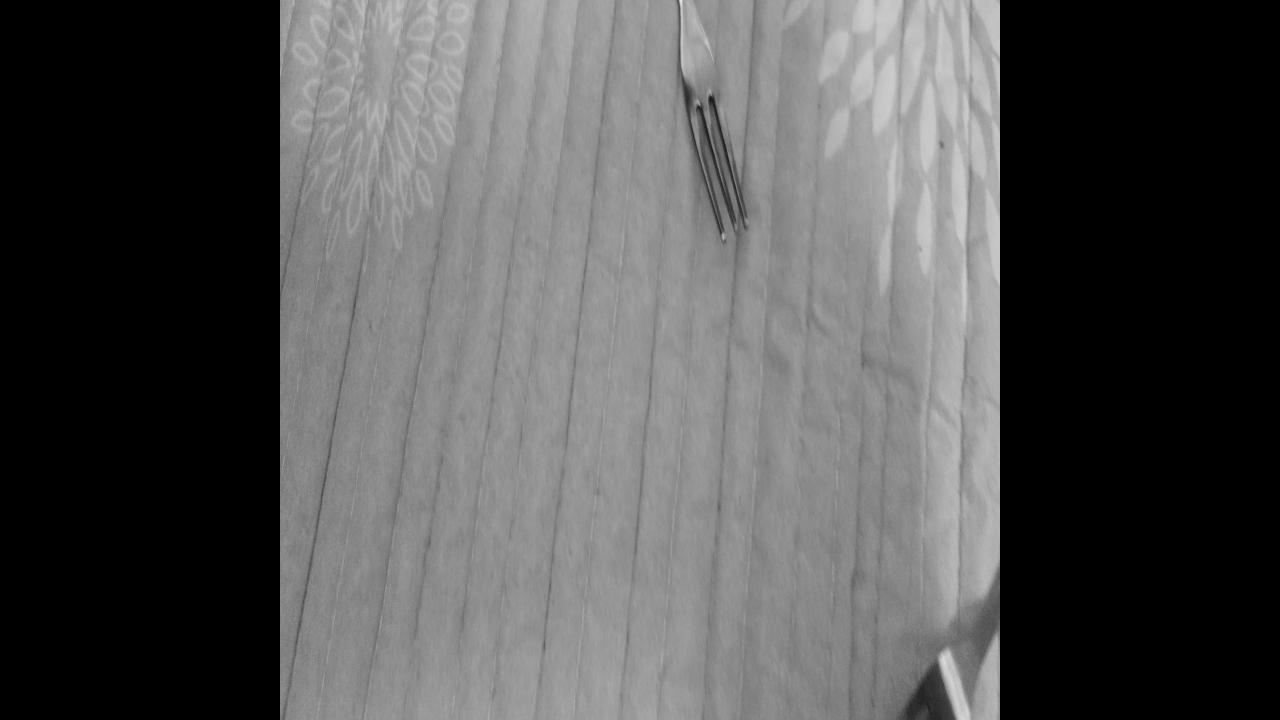fork: (609, 0, 747, 245), (842, 525, 996, 720)
